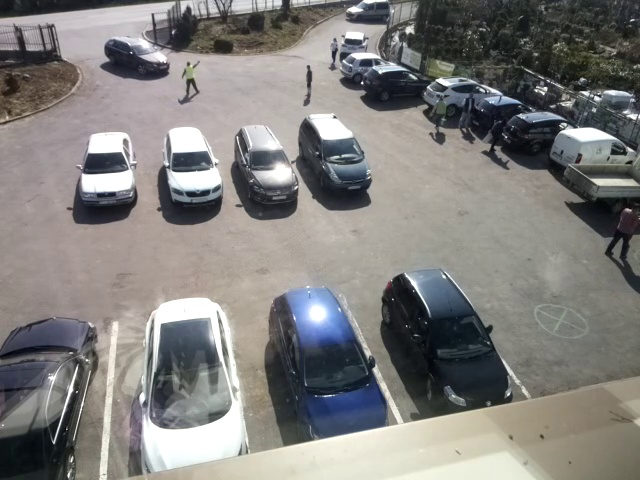car: (138, 296, 248, 476), (381, 268, 511, 413), (270, 285, 386, 444), (1, 318, 99, 480), (298, 110, 374, 193), (234, 124, 299, 205), (161, 127, 221, 206), (549, 126, 637, 178), (78, 131, 138, 205), (423, 76, 507, 119), (505, 111, 583, 154), (475, 95, 544, 136), (103, 35, 170, 76), (361, 65, 433, 102), (340, 53, 402, 85), (345, 1, 394, 24), (339, 28, 369, 60)
